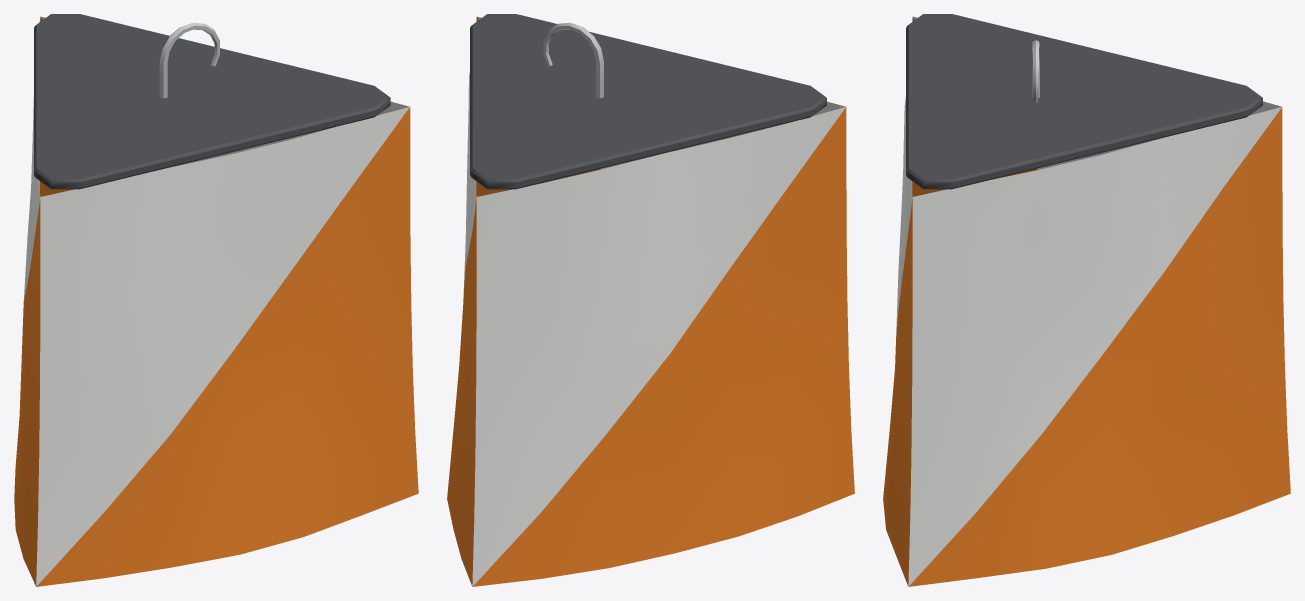
Rendered from control-flag.glb.
3 renders of one model, left to right at view 1: azimuth 30°, elevation 25°; view 2: azimuth 150°, elevation 25°; view 3: azimuth 270°, elevation 25°, orthographic.
Parts seen in each view (by area): view 1: control-flag_LOD0; view 2: control-flag_LOD0; view 3: control-flag_LOD0.
Boxes of the visible parts, x1,y1,x2,y2 form: control-flag_LOD0: (14, 14, 418, 586); control-flag_LOD0: (447, 14, 854, 586); control-flag_LOD0: (883, 14, 1290, 586).
Size of what is drawn, in the model's own units: 0.3104 by 0.3636 by 0.2866.
